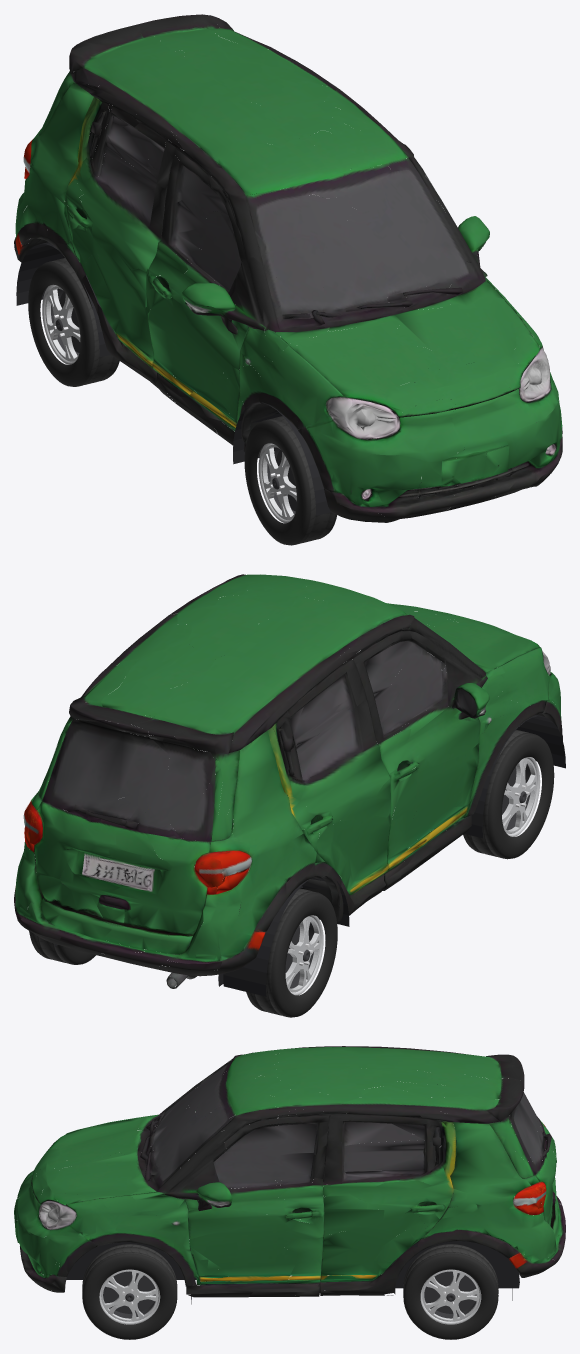
File: car-v5.glb
3 renders of one model, top to bottom at view 1: azimuth 30°, elevation 25°; view 2: azimuth 150°, elevation 25°; view 3: azimuth 270°, elevation 25°, orthographic. The views are drawn at different scales.
Visible parts, largest first — view 1: tripo_node_9b9f6ad5-422e-434e-a2a9-1cb2b21f625d, TyreRim_Front_L, TyreRim_Rear_L, WheelWell_Rear_L, WheelWell_Front_L; view 2: tripo_node_9b9f6ad5-422e-434e-a2a9-1cb2b21f625d, TyreRim_Rear_L, TyreRim_Front_L, WheelWell_Rear_L, WheelWell_Front_L, TyreRim_Rear_R; view 3: tripo_node_9b9f6ad5-422e-434e-a2a9-1cb2b21f625d, TyreRim_Rear_R, TyreRim_Front_R, WheelWell_Rear_R, WheelWell_Front_R.
Part boxes in pixels (<box>): tripo_node_9b9f6ad5-422e-434e-a2a9-1cb2b21f625d: <box>14,14,562,522</box>; TyreRim_Front_L: <box>244,416,336,545</box>; TyreRim_Rear_L: <box>28,258,119,386</box>; WheelWell_Rear_L: <box>16,236,110,357</box>; WheelWell_Front_L: <box>233,402,351,515</box>; tripo_node_9b9f6ad5-422e-434e-a2a9-1cb2b21f625d: <box>14,574,562,988</box>; TyreRim_Rear_L: <box>246,888,337,1017</box>; TyreRim_Front_L: <box>463,730,554,859</box>; WheelWell_Rear_L: <box>218,877,349,996</box>; WheelWell_Front_L: <box>460,715,565,838</box>; TyreRim_Rear_R: <box>29,883,95,964</box>; tripo_node_9b9f6ad5-422e-434e-a2a9-1cb2b21f625d: <box>14,1046,565,1297</box>; TyreRim_Rear_R: <box>403,1244,498,1339</box>; TyreRim_Front_R: <box>82,1244,177,1339</box>; WheelWell_Rear_R: <box>387,1232,519,1300</box>; WheelWell_Front_R: <box>66,1241,196,1304</box>.
Size of the model in its own units: 1.94 by 1.89 by 4.2.
6 materials, 2 textured.
